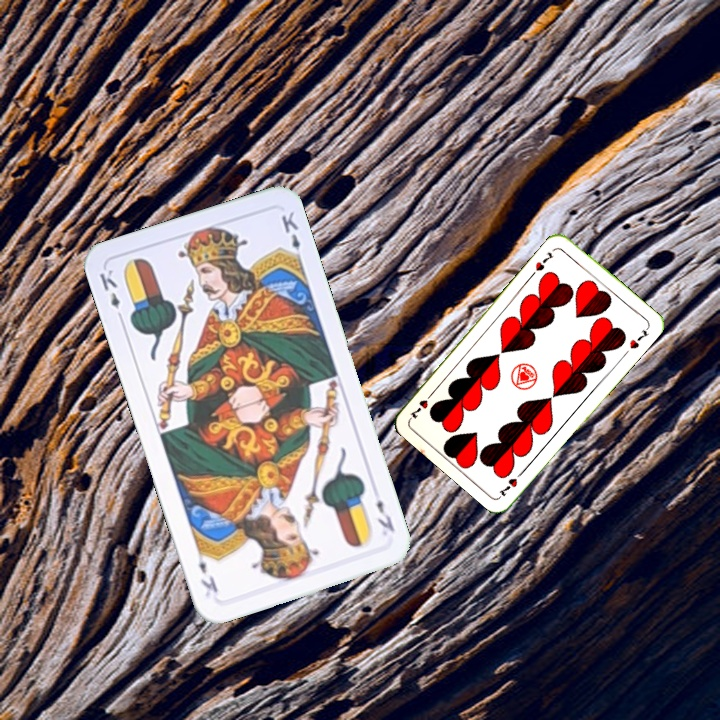EK: (95, 265, 126, 324), (372, 495, 398, 535)
H7: (495, 466, 527, 499), (531, 248, 556, 273)
